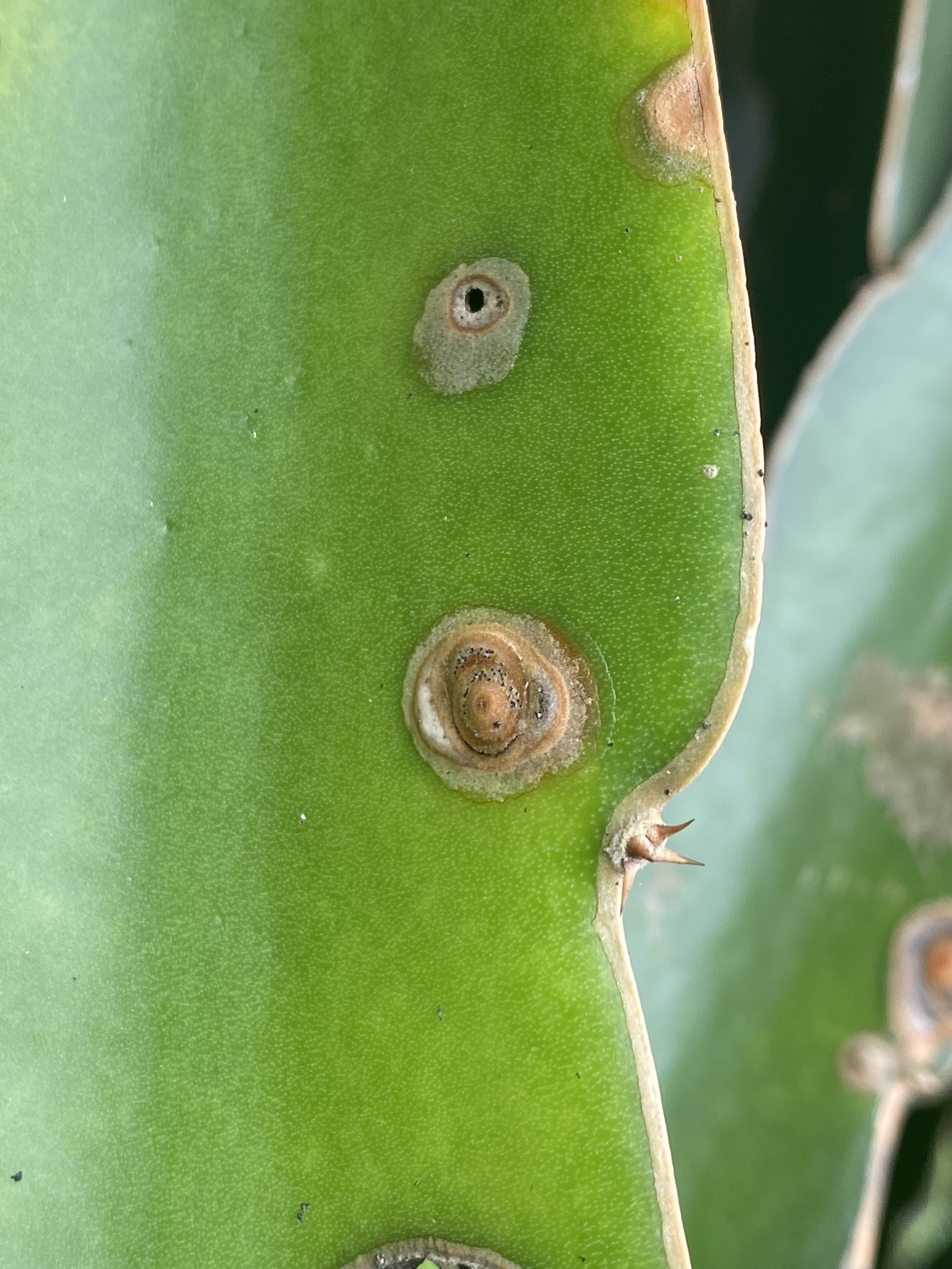stemcanker: (395, 600, 603, 805), (408, 252, 537, 403), (611, 45, 718, 190)
